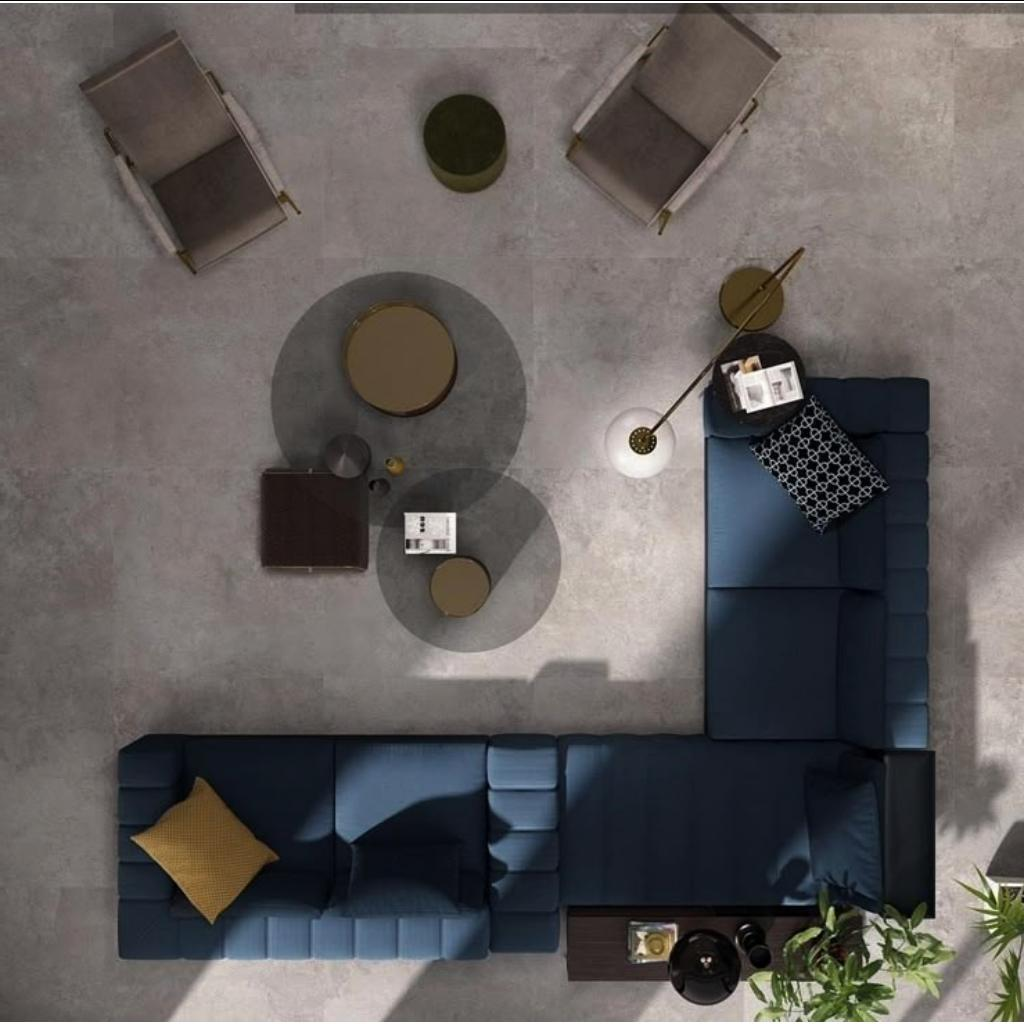chair: (80, 34, 312, 258), (572, 11, 784, 233)
chair-bed: (564, 735, 932, 909)
coffee table: (264, 268, 560, 652)
floor lamp: (717, 260, 787, 326)
ottoman: (420, 92, 512, 184)
side table: (564, 914, 860, 986)
sofa: (115, 729, 557, 961), (708, 377, 930, 731)
